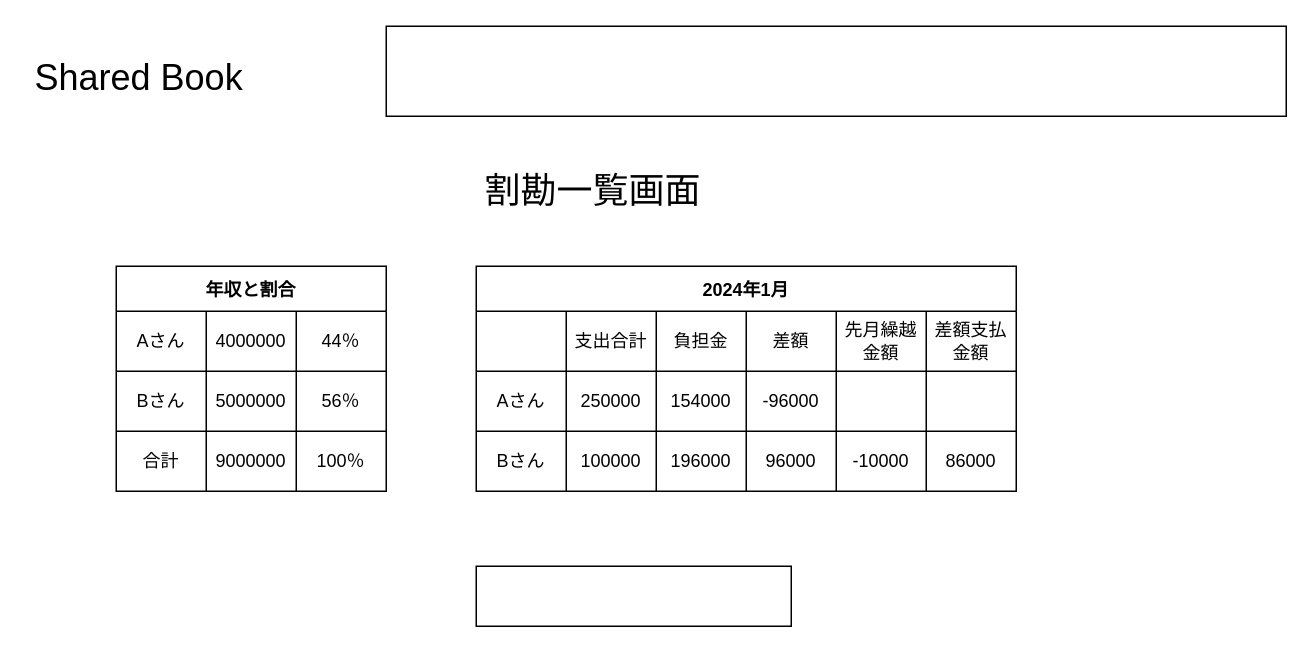
Image size: 1313x653. Some labels were removed from this diagram. Each missing label, with the centre of its shape:
"ページネーション（月別表示）" goes at (633,595).
"収入支出一覧 項目一覧 カレンダー一覧 月別グラフ 割勘一覧 アカウント ログアウト" goes at (835,70).
